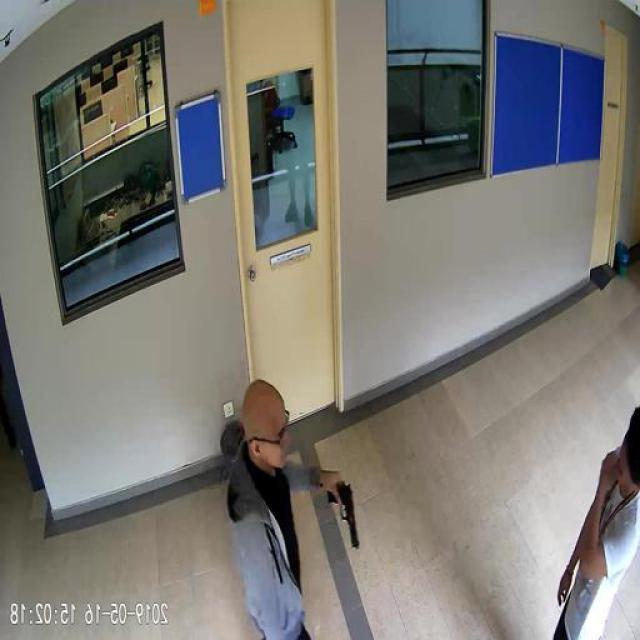Gun: (330, 478, 361, 548)
